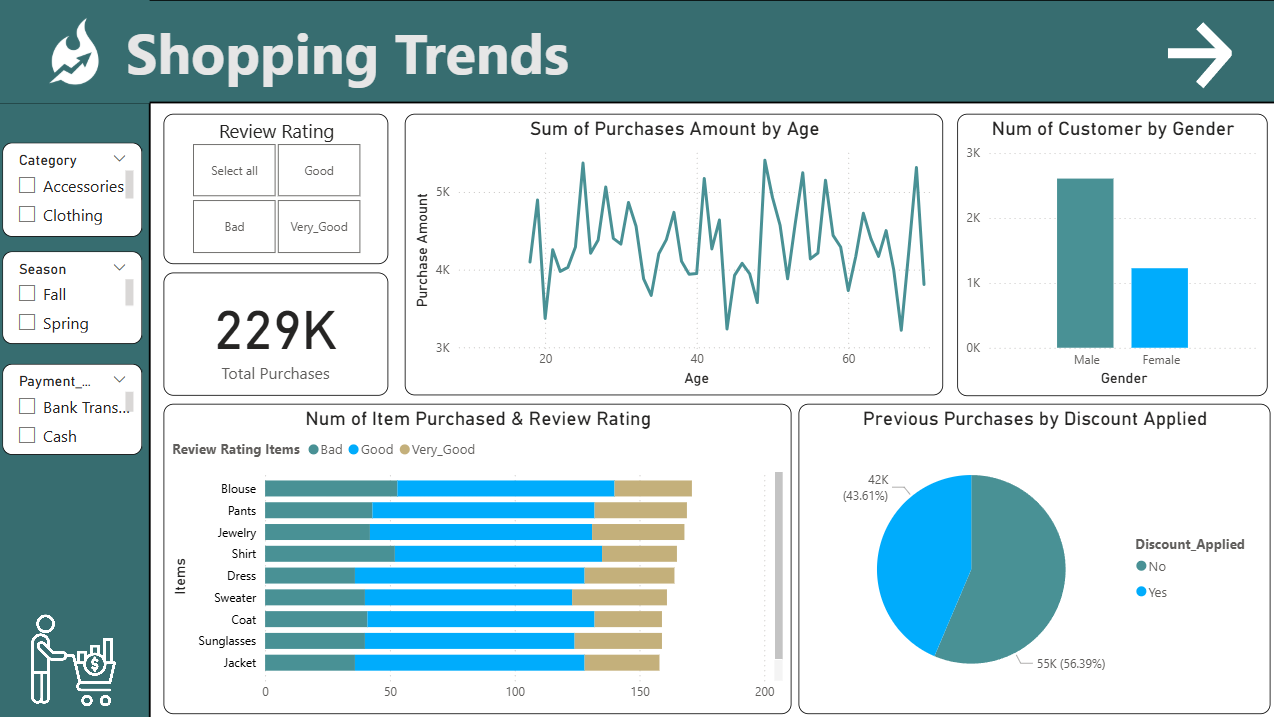

Layout of this report page (visuals, bound fields, positions):
{"tool":"powerbi","page":{"name":"Page 1","canvas":[1280,720],"ordinal":0},"visuals":[{"type":"columnChart","title":"Num of Customer by Gender","fields":{"Y":["CountNonNull(Shopping_Trends_Cleaned.Customer_ID)"],"Category":["Shopping_Trends_Cleaned.Gender"],"Series":["Shopping_Trends_Cleaned.Gender"]},"box":[961.5,113.6,310,282],"z":0},{"type":"slicer","title":"         Review Rating","fields":{"Values":["Shopping_Trends_Cleaned.Review_Rating_Categories"]},"box":[167.1,114.1,224.6,150.8],"z":1000},{"type":"barChart","title":"Num of Item Purchased & Review Rating","fields":{"Category":["Shopping_Trends_Cleaned.Item_Purchased"],"Y":["CountNonNull(Shopping_Trends_Cleaned.Customer_ID)"],"Series":["Shopping_Trends_Cleaned.Review_Rating_Categories"]},"box":[168,404,628,310],"z":2000},{"type":"pieChart","title":"Previous Purchases by Discount Applied","fields":{"Y":["Sum(Shopping_Trends_Cleaned.Previous_Purchases)"],"Category":["Shopping_Trends_Cleaned.Discount_Applied"]},"box":[802,404,472,310],"z":3000},{"type":"card","fields":{"Values":["Sum(Shopping_Trends_Cleaned.Purchase_Amount_USD)"]},"box":[167.1,272.5,224.6,123.1],"z":4000},{"type":"lineChart","title":"Sum of Purchases Amount by Age","fields":{"Category":["Shopping_Trends_Cleaned.Age"],"Y":["Sum(Shopping_Trends_Cleaned.Purchase_Amount_USD)"]},"box":[408.7,114.1,538.5,281.5],"z":5000},{"type":"shape","box":[0,0,154.3,720],"z":6000},{"type":"shape","box":[0,0,1280,102.9],"z":7000},{"type":"actionButton","box":[1164.3,17.1,92.9,75.7],"z":8000},{"type":"slicer","fields":{"Values":["Shopping_Trends_Cleaned.Category"]},"box":[6.7,142.3,140,94.3],"z":9000},{"type":"shape","box":[0,0,153.6,103.3],"z":10000},{"type":"textbox","box":[125,8.3,466.7,95],"z":11000},{"type":"slicer","fields":{"Values":["Shopping_Trends_Cleaned.Season"]},"box":[6.7,250.9,140,92.9],"z":12000},{"type":"slicer","fields":{"Values":["Shopping_Trends_Cleaned.Payment_Method"]},"box":[6.7,363.8,140,91.4],"z":13000},{"type":"image","box":[0,601.7,155,118.3],"z":14000},{"type":"image","box":[0,0,155,103.3],"z":15000}]}

Visuals, with their boxes in screenshot pixels (x1, y1, x2, y2), scaled from the page's 1280x720 canvas onto the 1274x717 screenshot:
"Num of Customer by Gender" columnChart: rect(957, 113, 1266, 394)
"         Review Rating" slicer: rect(166, 114, 390, 264)
"Num of Item Purchased & Review Rating" barChart: rect(167, 402, 792, 711)
"Previous Purchases by Discount Applied" pieChart: rect(798, 402, 1268, 711)
card - Sum(Shopping_Trends_Cleaned.Purchase_Amount_USD): rect(166, 271, 390, 394)
"Sum of Purchases Amount by Age" lineChart: rect(407, 114, 943, 394)
shape: rect(0, 0, 154, 716)
shape: rect(0, 0, 1273, 102)
actionButton: rect(1159, 17, 1251, 92)
slicer - Shopping_Trends_Cleaned.Category: rect(7, 142, 146, 236)
shape: rect(0, 0, 153, 103)
textbox: rect(124, 8, 589, 103)
slicer - Shopping_Trends_Cleaned.Season: rect(7, 250, 146, 342)
slicer - Shopping_Trends_Cleaned.Payment_Method: rect(7, 362, 146, 453)
image: rect(0, 599, 154, 716)
image: rect(0, 0, 154, 103)
